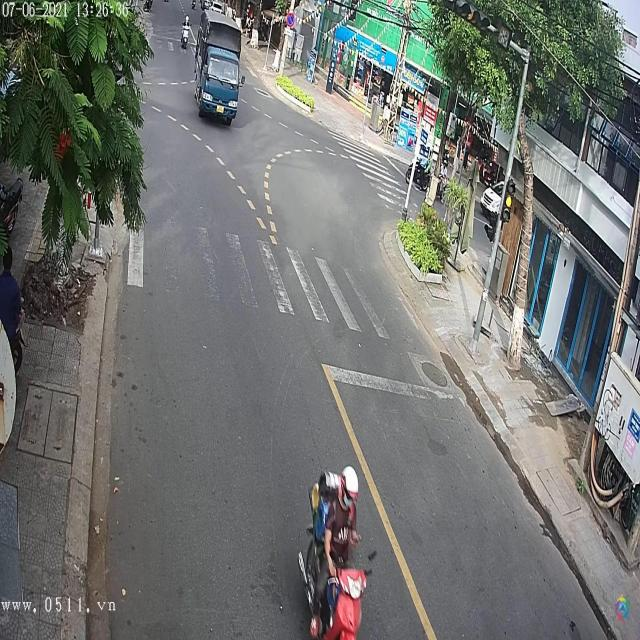truck: (194, 14, 245, 124)
